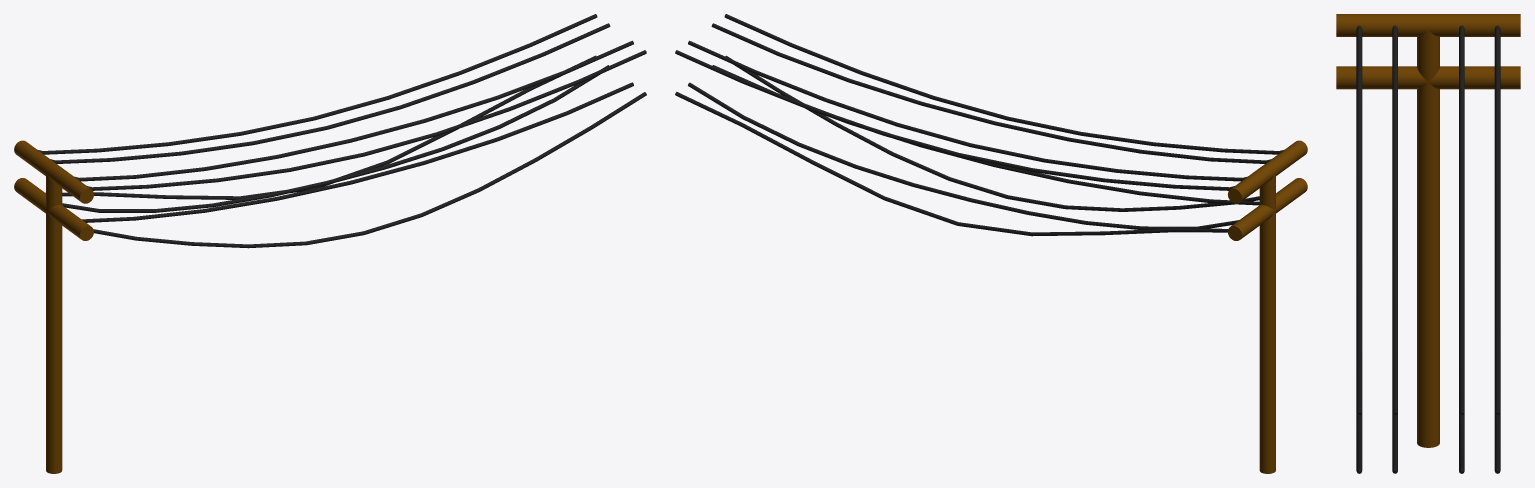
File: MOD_PowerLine_Droopy.fbx
3 views of the same model, side by side, from view 1: azimuth 30°, elevation 25°; view 2: azimuth 150°, elevation 25°; view 3: azimuth 270°, elevation 25° (orthographic). The views are drawn at different scales.
Parts seen in each view (by area): view 1: PowerLine_Droopy; view 2: PowerLine_Droopy; view 3: PowerLine_Droopy.
Part boxes in pixels (<box>): PowerLine_Droopy: <box>14,14,646,473</box>; PowerLine_Droopy: <box>675,14,1307,473</box>; PowerLine_Droopy: <box>1336,14,1520,473</box>.
Size of the model in its own units: 806 by 410 by 160.
